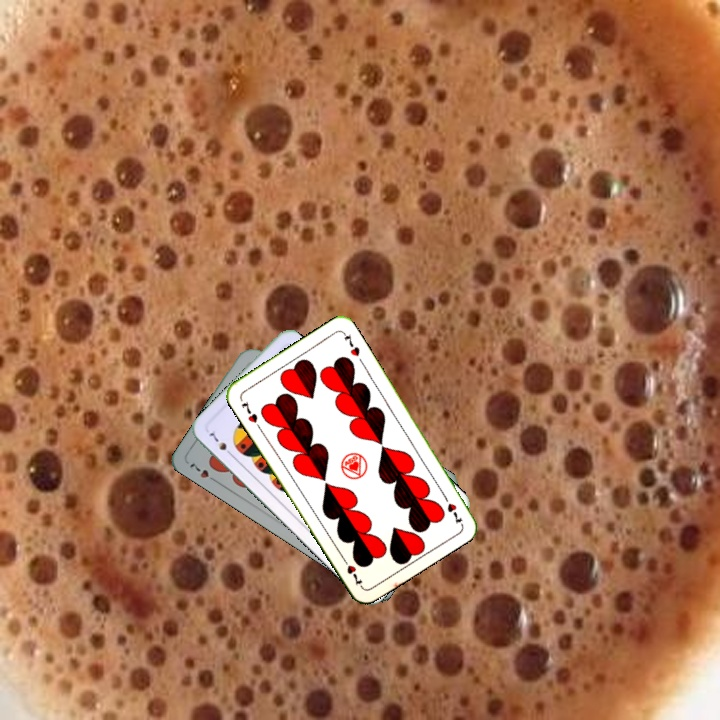H7: (185, 458, 221, 486), (439, 490, 465, 527), (237, 397, 263, 431)
S7: (203, 426, 236, 459)
